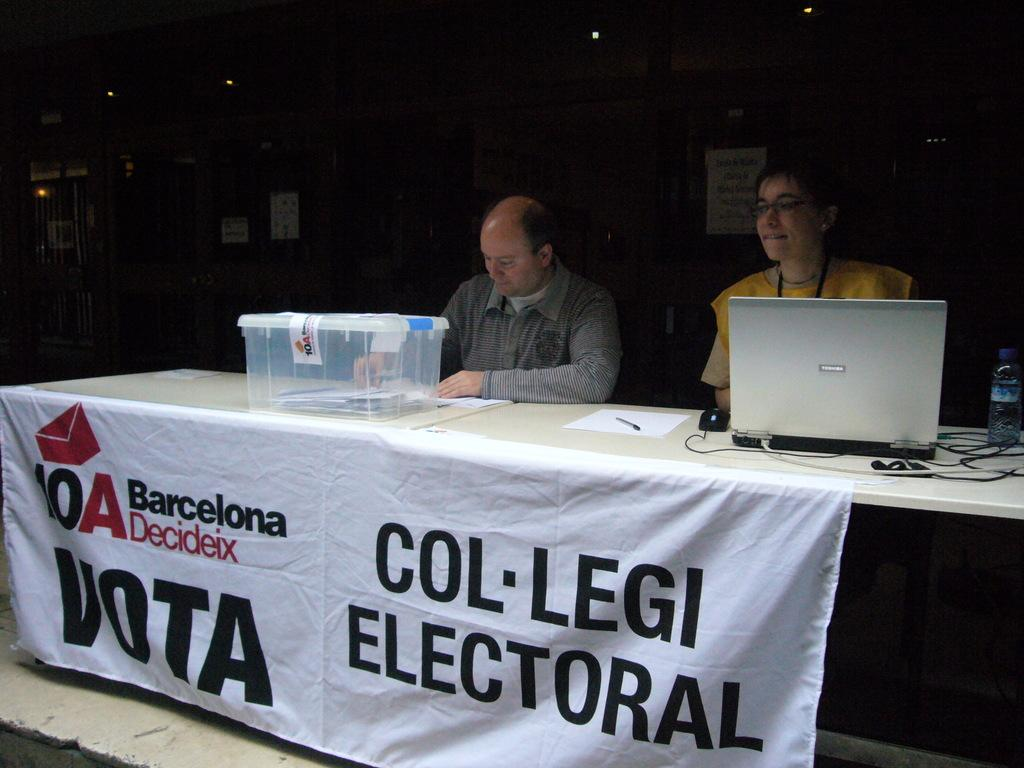Laptop: (702, 296, 956, 465)
